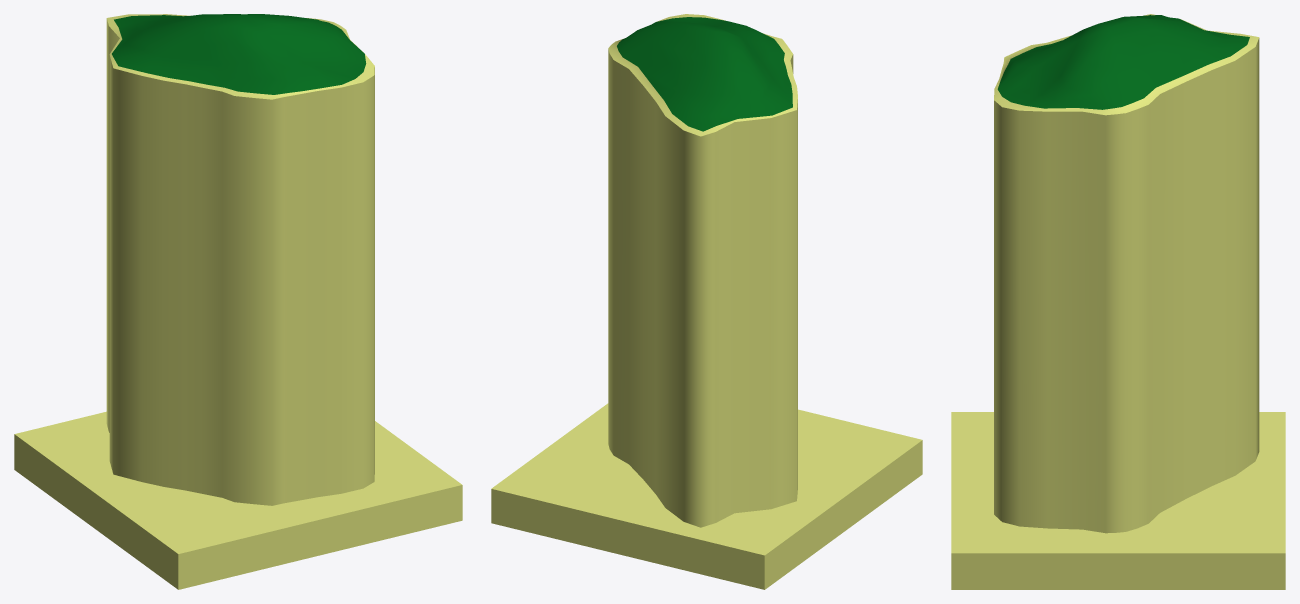
Rendered from Wild_Little_Island_03.fbx.
3 views of the same model, side by side, from view 1: azimuth 30°, elevation 25°; view 2: azimuth 150°, elevation 25°; view 3: azimuth 270°, elevation 25° (orthographic). The views are drawn at different scales.
Visible parts, largest first — view 1: Wild_Little_Island_03; view 2: Wild_Little_Island_03; view 3: Wild_Little_Island_03.
Boxes of the visible parts, x1,y1,x2,y2 form: Wild_Little_Island_03: (14, 14, 462, 589); Wild_Little_Island_03: (491, 14, 922, 589); Wild_Little_Island_03: (951, 14, 1285, 589).
Bounding box in the file's own units: 34.03 × 55.17 × 34.03.
